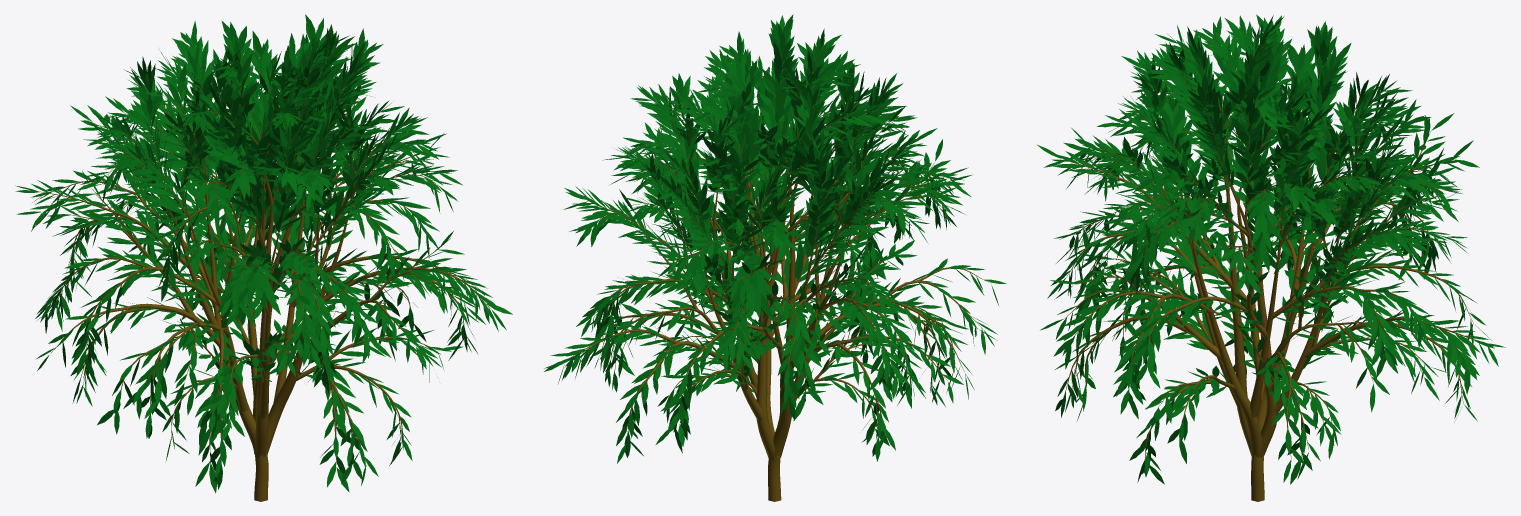
File: green_tree.fbx
3 renders of one model, left to right at view 1: azimuth 30°, elevation 25°; view 2: azimuth 150°, elevation 25°; view 3: azimuth 270°, elevation 25°, orthographic. The views are drawn at different scales.
Visible parts, largest first — view 1: leaves, tree; view 2: leaves, tree; view 3: leaves, tree.
Boxes of the visible parts, bbox=[...] form: leaves: bbox=[15, 14, 512, 493]; tree: bbox=[40, 52, 490, 501]; leaves: bbox=[544, 14, 1006, 463]; tree: bbox=[565, 55, 990, 501]; leaves: bbox=[1037, 14, 1505, 484]; tree: bbox=[1063, 39, 1474, 501].
Size of the model in its own units: 28.92 by 34.11 by 30.23.
